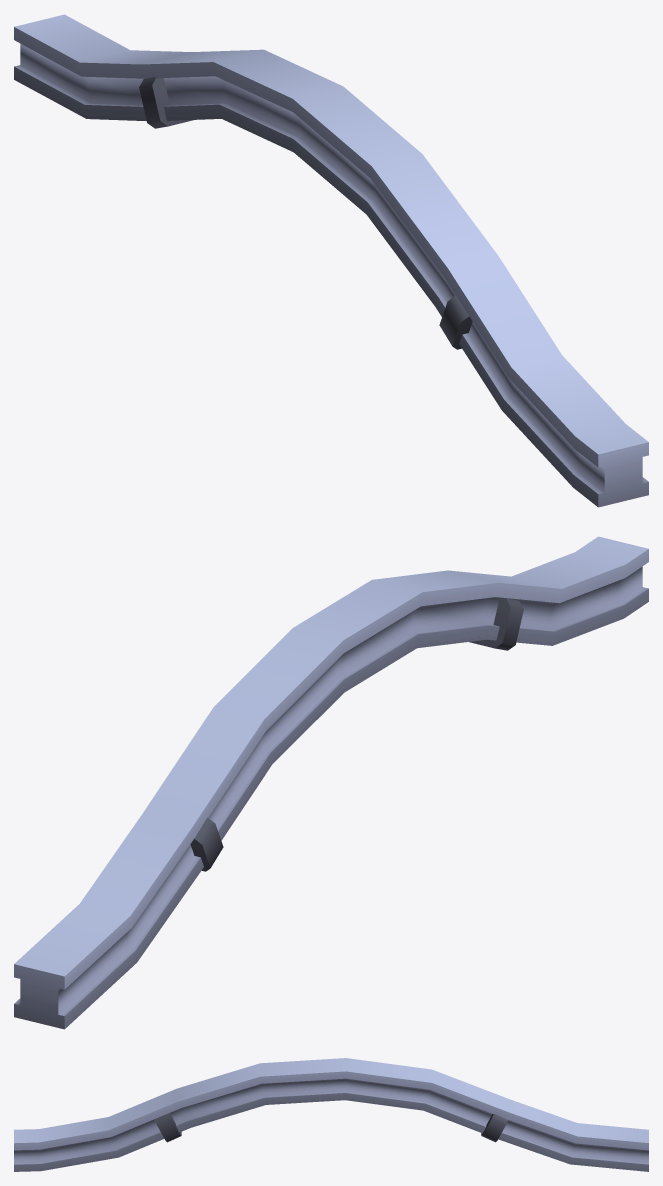
Rendered from coaster-monorail-straight-bump-up.glb.
The picture shows the model from 3 angles, top to bottom: view 1: azimuth 30°, elevation 25°; view 2: azimuth 150°, elevation 25°; view 3: azimuth 270°, elevation 25°; orthographic projection. The views are drawn at different scales.
Visible parts, largest first — view 1: coaster-monorail-straight-bump-up; view 2: coaster-monorail-straight-bump-up; view 3: coaster-monorail-straight-bump-up.
Boxes of the visible parts, bbox=[...] form: coaster-monorail-straight-bump-up: bbox=[14, 14, 648, 507]; coaster-monorail-straight-bump-up: bbox=[14, 536, 648, 1029]; coaster-monorail-straight-bump-up: bbox=[14, 1058, 648, 1171].
Bounding box in the file's own units: 0.25 × 0.6988 × 4.
Materials: 1 (1 with a texture image).
